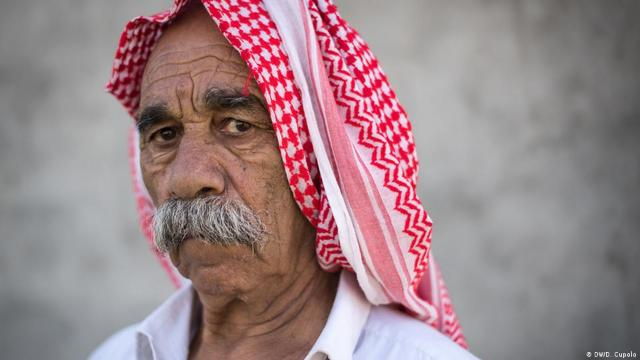forehead: (212, 64, 254, 86), (148, 66, 188, 86), (198, 45, 226, 69), (162, 52, 192, 74)
frown_line: (172, 90, 188, 122), (187, 76, 201, 112)
gummy_smile: (222, 164, 240, 198)
